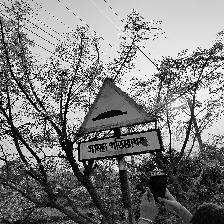Speed-breaker: (76, 78, 163, 163)
